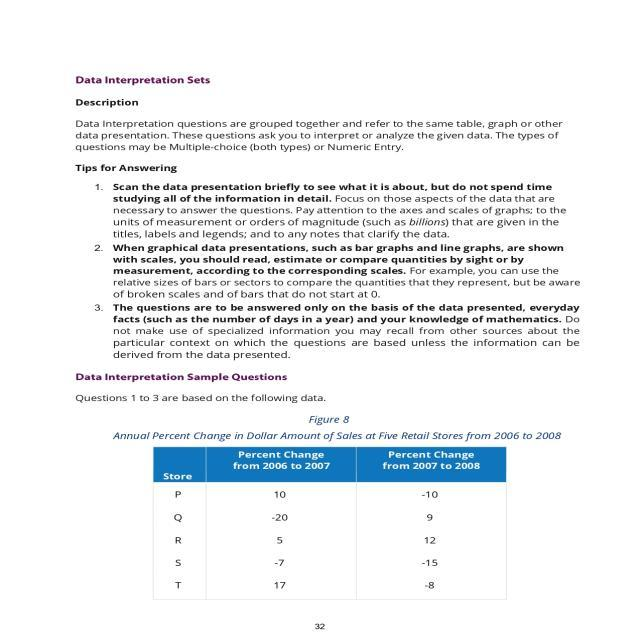Question_Answer_Block: (49, 386, 596, 607)
Question_Block: (49, 386, 596, 607)
Question_Paper_Area: (49, 41, 596, 606)
